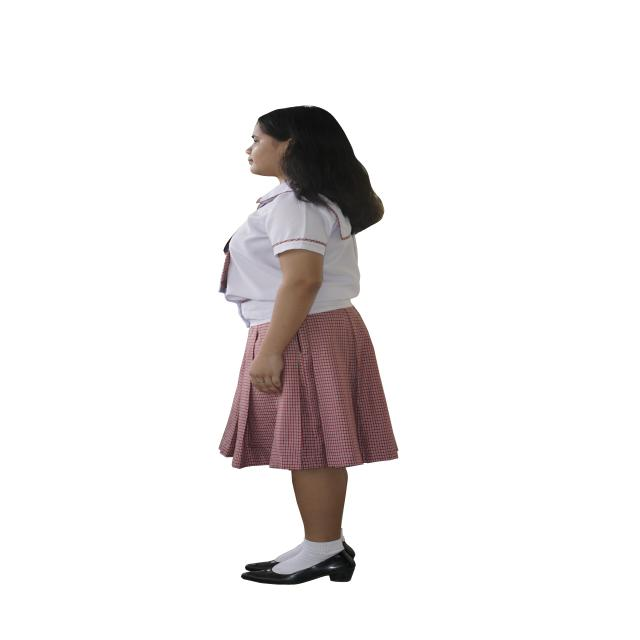pologirl: (219, 183, 360, 327)
shoes: (241, 544, 356, 585)
skirt: (219, 307, 398, 470)
